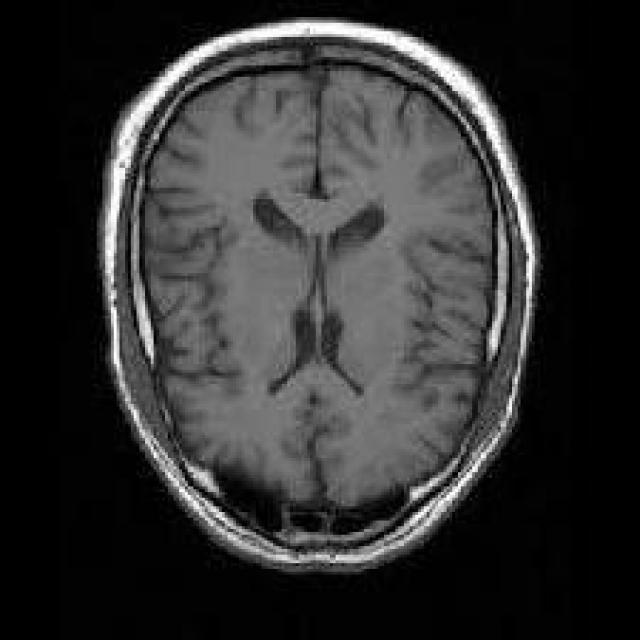notumor: (102, 20, 538, 572)
